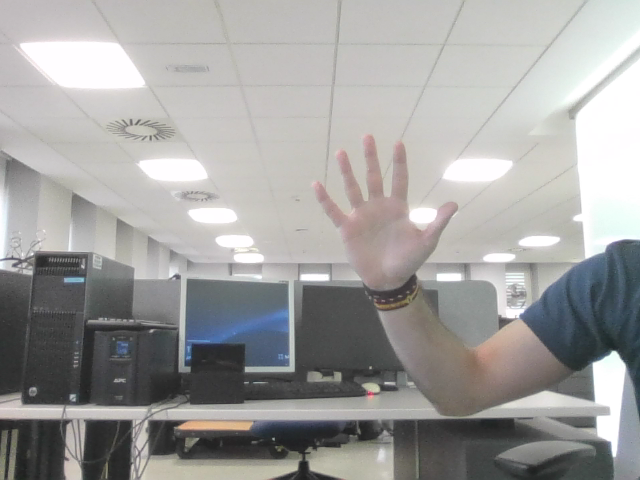Mano Abierta: (323, 145, 444, 257)
